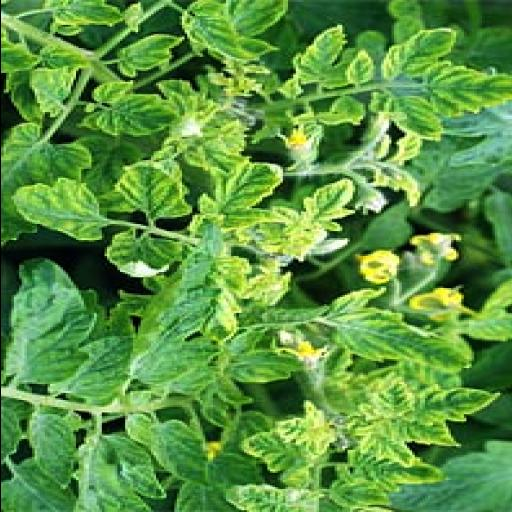Yellow Leaf Curl Virus: (308, 290, 468, 376), (8, 177, 106, 243), (80, 80, 178, 142), (106, 154, 192, 224), (200, 154, 284, 218), (411, 66, 507, 118), (177, 7, 252, 73), (378, 24, 452, 84), (287, 28, 349, 96), (238, 430, 328, 475), (300, 172, 362, 236), (349, 448, 442, 489), (412, 380, 494, 425), (104, 229, 176, 279), (115, 32, 186, 76), (388, 100, 445, 150)
